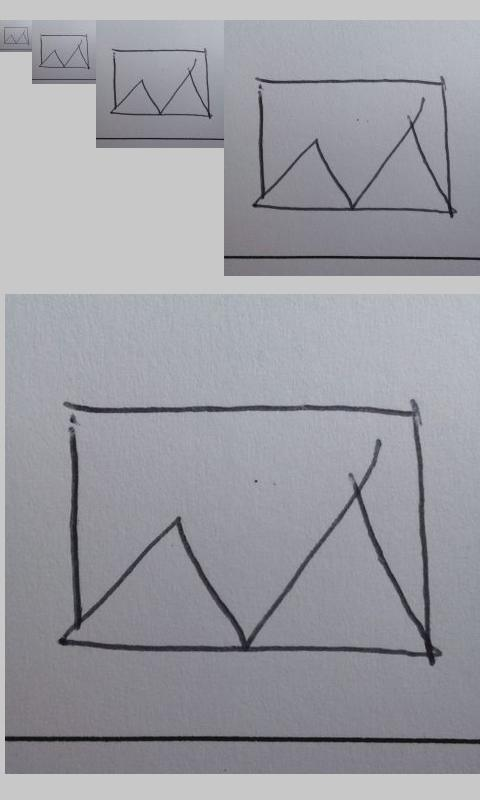image_view: (61, 402, 433, 663), (254, 77, 454, 215), (111, 48, 210, 117), (39, 33, 89, 69), (3, 26, 29, 45)
